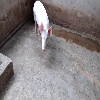heo: (32, 1, 54, 53)
